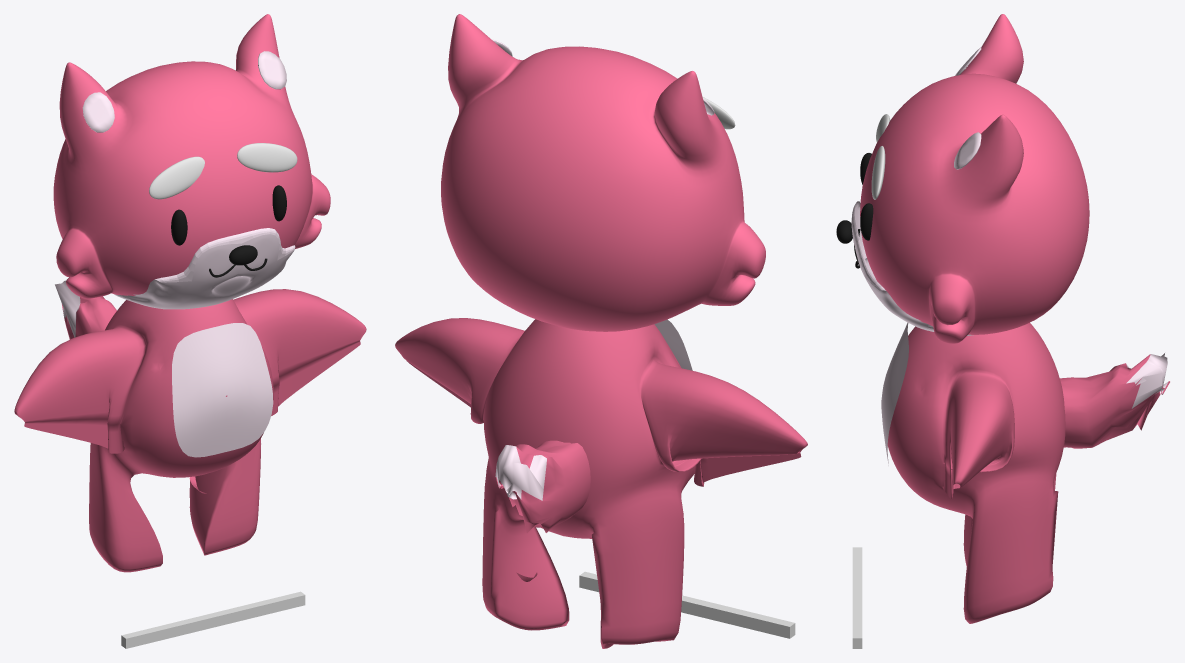
Rendered from BATFOX new smile,blend.fbx.
3 views of the same model, side by side, from view 1: azimuth 30°, elevation 25°; view 2: azimuth 150°, elevation 25°; view 3: azimuth 270°, elevation 25° (orthographic). The views are drawn at different scales.
Visible parts, largest first — view 1: Cube, Cube.001, Cube.003, Cube.002, Cube.009, Cube.008, Cube.005, Cube.006, Cube.004; view 2: Cube, Cube.001, Cube.008, Cube.009, Cube.003; view 3: Cube, Cube.001, Cube.008, Cube.003, Cube.002, Cube.009, Cube.004, Cube.006.
Part boxes in pixels (box(x1,y1,x2,y2)): Cube: box(53, 14, 330, 298); Cube.001: box(14, 289, 366, 572); Cube.003: box(172, 323, 273, 457); Cube.002: box(114, 228, 295, 309); Cube.009: box(121, 591, 305, 648); Cube.008: box(55, 280, 116, 339); Cube.005: box(149, 156, 204, 199); Cube.006: box(237, 143, 297, 172); Cube.004: box(171, 185, 286, 245); Cube: box(441, 14, 765, 331); Cube.001: box(395, 318, 807, 648); Cube.008: box(495, 440, 590, 532); Cube.009: box(579, 571, 795, 638); Cube.003: box(654, 319, 692, 370); Cube: box(860, 14, 1089, 343); Cube.001: box(887, 322, 1065, 623); Cube.008: box(1060, 353, 1169, 448); Cube.003: box(881, 322, 908, 465); Cube.002: box(851, 201, 973, 335); Cube.009: box(852, 547, 862, 648); Cube.004: box(860, 153, 873, 240); Cube.006: box(871, 146, 885, 199).
Bounding box in the file's own units: 267 × 386 × 212.
